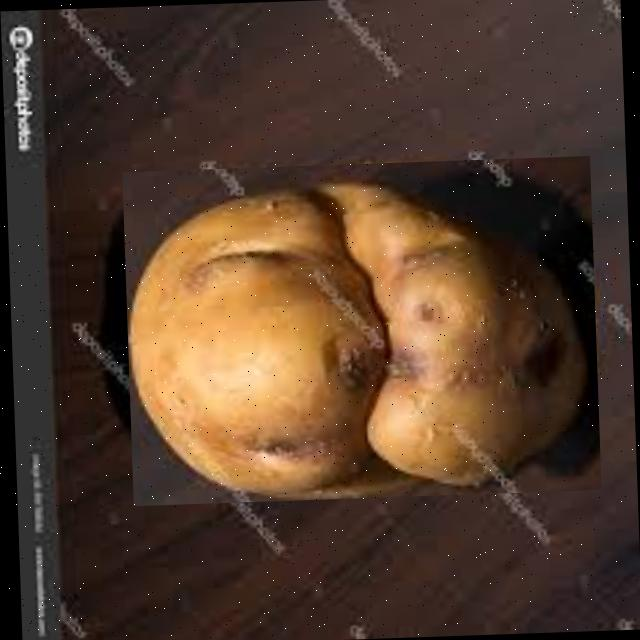Damaged potato: (121, 155, 600, 506)
